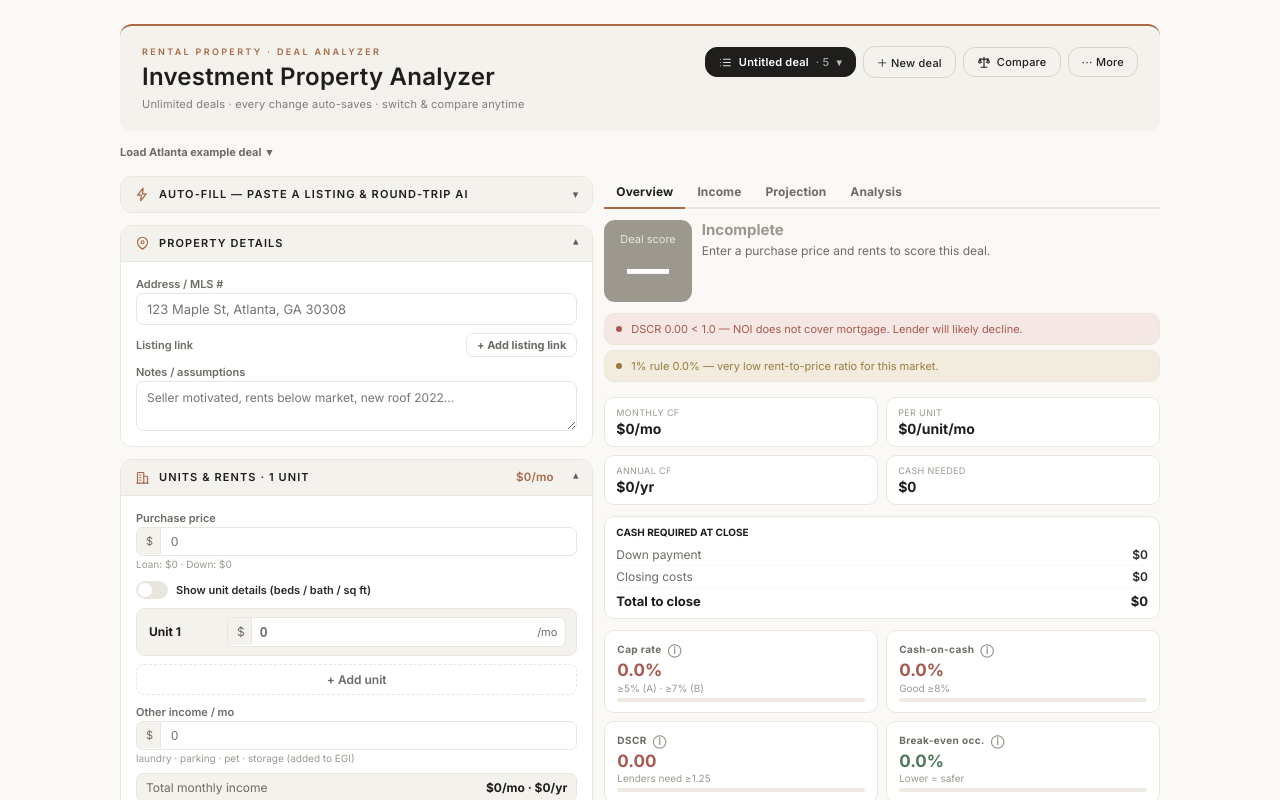
autosave merges into the on-disk store — another tab's edit to a different deal survives
Click the button titled "Start a new blank deal" at (909, 62), box [863,46,956,78]
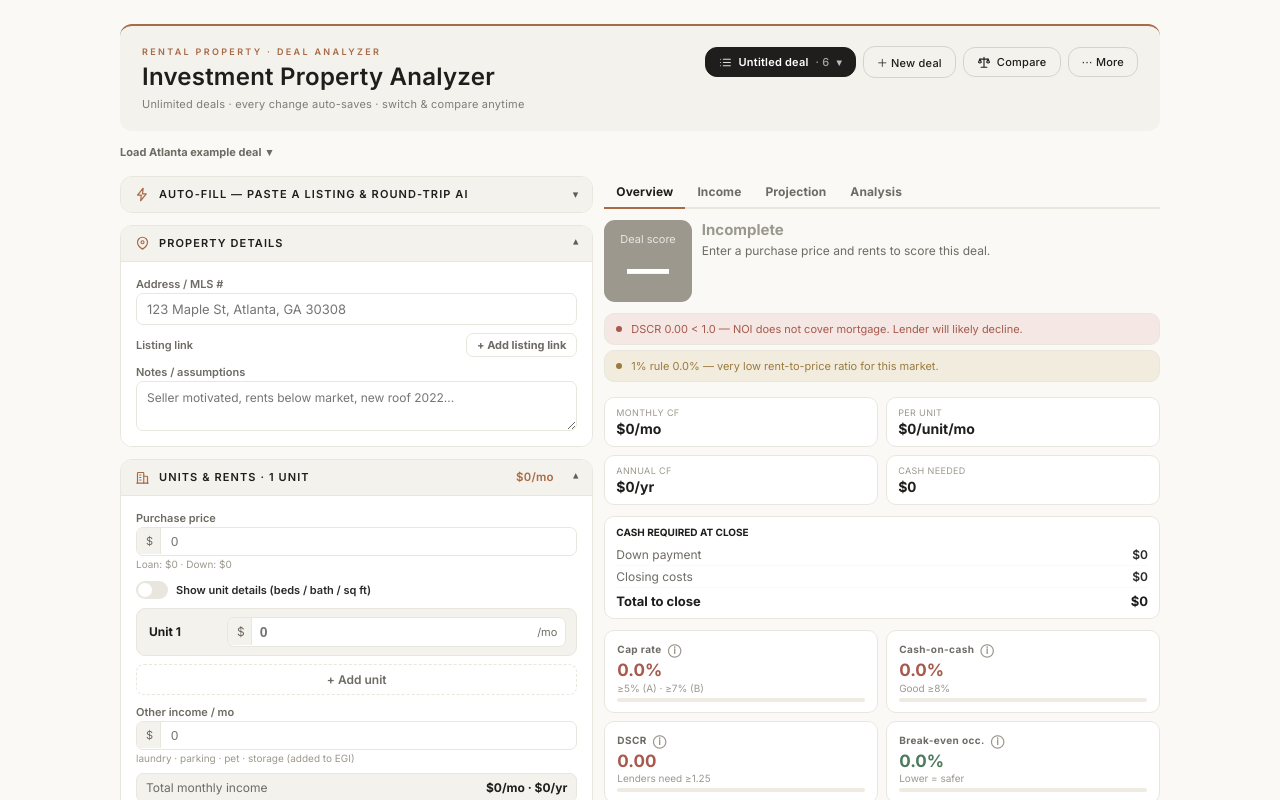
// Edit the active deal in THIS tab — autosave must merge into disk, not clobber `other`.
Type "THIS TAB EDIT" into the field with placeholder "123 Maple St, Atlanta, GA 30308" at (357, 309), box [136,293,577,325]
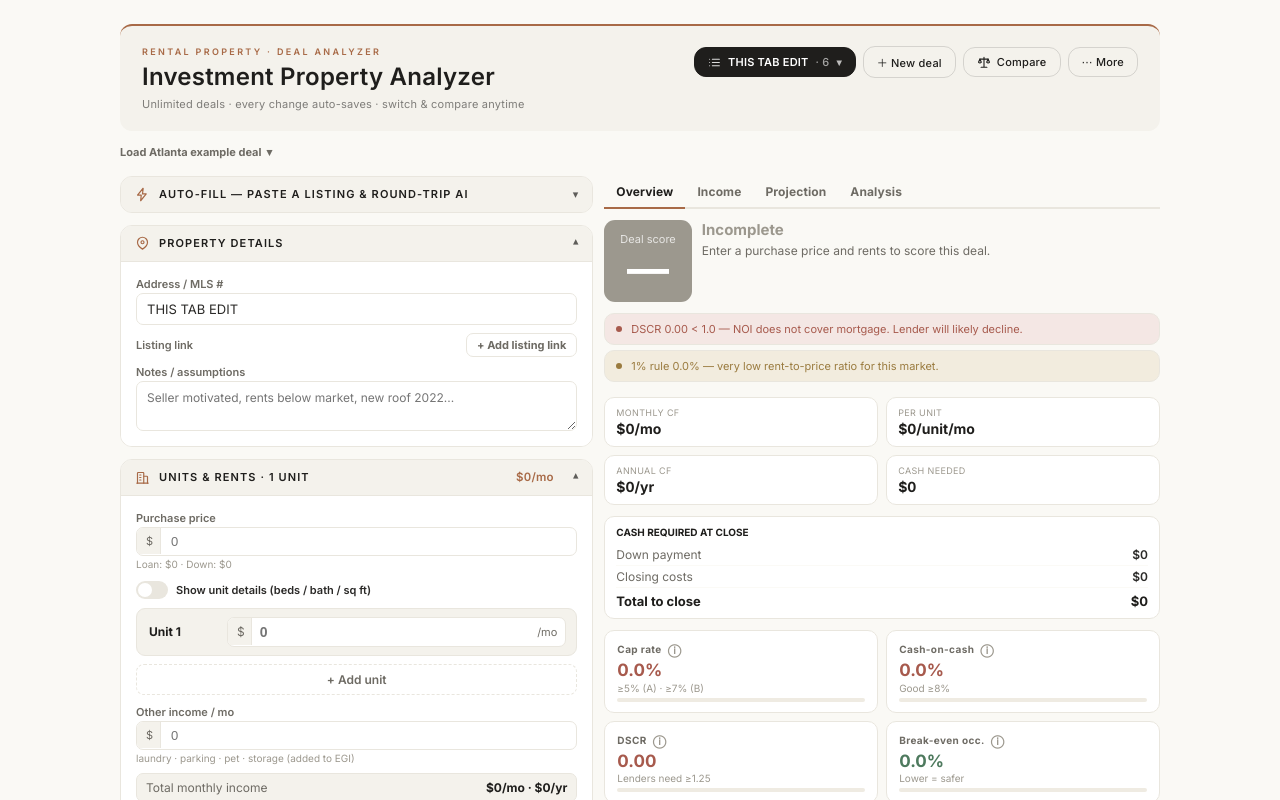
Now the text "THIS TAB EDIT" is shown, box [728,55,808,69]
